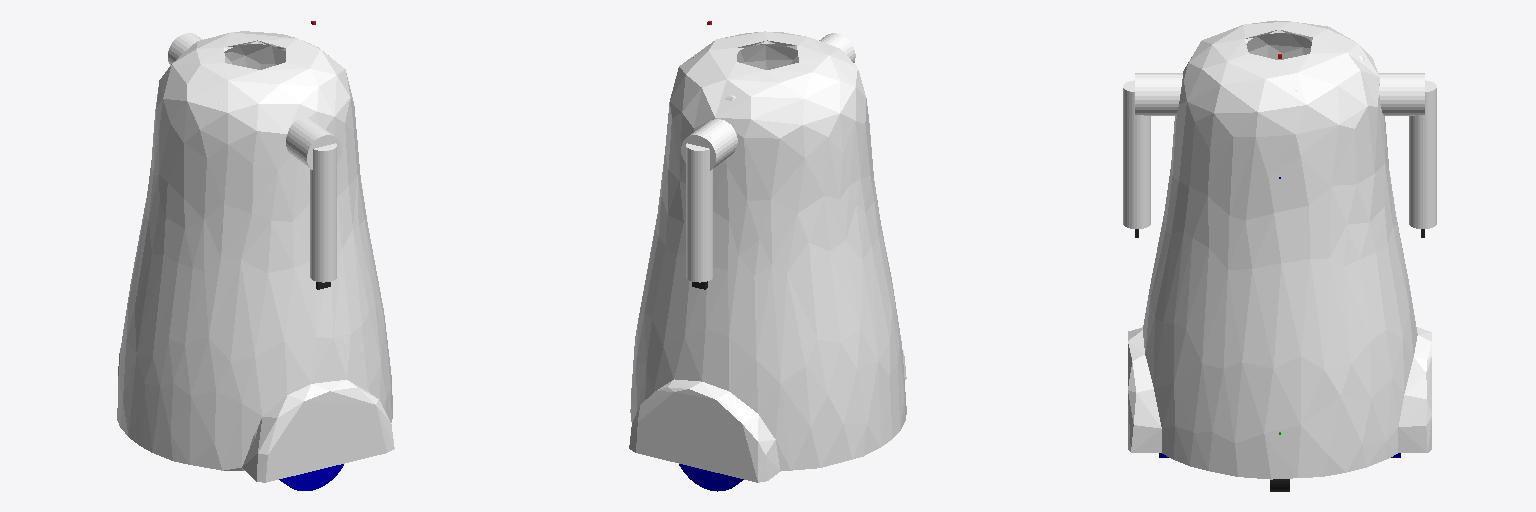
--- Facts derived from the render (not from the file) ---
Views: 3 orthographic renders of the robot side by side, from view 1: azimuth 30°, elevation 25°; view 2: azimuth 150°, elevation 25°; view 3: azimuth 270°, elevation 25°.
Model arca3 with 20 links and 19 joints (10 revolute, 6 continuous, 3 fixed), rooted at base_link, posed all joints at 0.
Visible links, largest first — view 1: base_link, ra_link2, ra_link1, ra_link3, driving_wheel_M1_link, ra_link4, la_link1; view 2: base_link, la_link2, la_link1, la_link3, driving_wheel_M2_link, la_link4; view 3: base_link, ra_link1, la_link1, ra_link2, la_link2, ra_link3, la_link3, la_link4, ra_link4.
Boxes of the visible links, x1,y1,x2,y2 form: base_link: [117, 31, 394, 482]; ra_link2: [310, 143, 336, 218]; ra_link1: [286, 118, 341, 169]; ra_link3: [310, 206, 336, 261]; driving_wheel_M1_link: [279, 464, 343, 490]; ra_link4: [310, 253, 336, 282]; la_link1: [168, 33, 232, 65]; base_link: [629, 31, 906, 482]; la_link2: [686, 143, 712, 218]; la_link1: [681, 119, 737, 170]; la_link3: [686, 208, 712, 261]; driving_wheel_M2_link: [679, 464, 743, 491]; la_link4: [686, 251, 712, 282]; base_link: [1128, 20, 1431, 479]; ra_link1: [1135, 73, 1182, 115]; la_link1: [1379, 73, 1424, 115]; ra_link2: [1123, 80, 1150, 162]; la_link2: [1409, 80, 1436, 162]; ra_link3: [1123, 152, 1150, 207]; la_link3: [1409, 149, 1436, 207]; la_link4: [1409, 196, 1436, 228]; ra_link4: [1123, 197, 1150, 228].
Size in the robot's own frame: 0.4068 by 0.444 by 0.6692 metres.
Meshes: 1 distinct files referenced, 1 mesh visuals loaded (1 binary STL).

The robot description file, URDF, robot "arca3":
<?xml version="1.0" ?>
<!-- =================================================================================== -->
<!-- |    This document was autogenerated by xacro from arca3_vf2.xacro                | -->
<!-- |    EDITING THIS FILE BY HAND IS NOT RECOMMENDED                                 | -->
<!-- =================================================================================== -->
<robot name="arca3" xmlns:xacro="http://www.ros.org/wiki/xacro">
  <!-- dwd: driving wheel diameter, [m]  -->
  <!-- ============================================ -->
  <!--                 Transmission                 -->
  <!-- ============================================ -->
  <!-- <xacro:driving_wheel_transmission number="1"/>
    <xacro:driving_wheel_transmission number="2"/> -->
  <!-- ============================================ -->
  <!-- PLugin - Gazebo drive controller (diff robot)-->
  <!-- ============================================ -->
  <gazebo>
    <plugin filename="libgazebo_ros_diff_drive.so" name="differential_drive_controller">
      <alwaysOn>true</alwaysOn>
      <updateRate>50</updateRate>
      <leftJoint>joint_base_link_driving_wheel_M2</leftJoint>
      <rightJoint>joint_base_link_driving_wheel_M1</rightJoint>
      <wheelSeparation>0.284</wheelSeparation>
      <wheelDiameter>0.125</wheelDiameter>
      <wheelAcceleration>0.2</wheelAcceleration>
      <wheelTorque>30</wheelTorque>
      <commandTopic>cmd_vel</commandTopic>
      <odometryTopic>odom</odometryTopic>
      <odometryFrame>odom</odometryFrame>
      <robotBaseFrame>base_footprint</robotBaseFrame>
      <publishWheelTF>true</publishWheelTF>
      <publishOdom>true</publishOdom>
      <robotBaseFrame>base_link</robotBaseFrame>
      <publishWheelJointState>true</publishWheelJointState>
      <legacyMode>false</legacyMode>
      <rosDebugLevel>false</rosDebugLevel>
      <publishOdomTF>true</publishOdomTF>
      <odometrySource>1</odometrySource>
      <publishTf>1</publishTf>
    </plugin>
  </gazebo>
  <!-- ros_control plugin -->
  <gazebo>
    <plugin filename="libgazebo_ros_control.so" name="gazebo_ros_control">
      <robotNamespace>/arca3</robotNamespace>
      <robotSimType>gazebo_ros_control/DefaultRobotHWSim</robotSimType>
      <legacyModeNS>true</legacyModeNS>
    </plugin>
  </gazebo>
  <!-- =========================================== -->
  <!--              ROBOT DESCRIPTION              -->
  <!-- =========================================== -->
  <!-- Chassis -->
  <gazebo reference="base_link">
    <kp>10000.0</kp>
    <kd>10000.0</kd>
    <mu1>10.0</mu1>
    <mu2>10.0</mu2>
    <material>Gazebo/White</material>
  </gazebo>
  <!--  Left arm-->
  <gazebo reference="la_link1">
    <kp>10.0</kp>
    <kd>10.0</kd>
    <mu1>100.0</mu1>
    <mu2>100.0</mu2>
    <material>Gazebo/White</material>
  </gazebo>
  <gazebo reference="la_link2">
    <kp>10000.0</kp>
    <kd>10000.0</kd>
    <mu1>100.0</mu1>
    <mu2>100.0</mu2>
    <material>Gazebo/White</material>
  </gazebo>
  <gazebo reference="la_link3">
    <kp>10000.0</kp>
    <kd>10000.0</kd>
    <mu1>10.0</mu1>
    <mu2>10.0</mu2>
    <material>Gazebo/White</material>
  </gazebo>
  <gazebo reference="la_link4">
    <kp>10000.0</kp>
    <kd>10000.0</kd>
    <mu1>10.0</mu1>
    <mu2>10.0</mu2>
    <material>Gazebo/White</material>
  </gazebo>
  <gazebo reference="la_link5">
    <kp>10000.0</kp>
    <kd>10000.0</kd>
    <mu1>10.0</mu1>
    <mu2>10.0</mu2>
    <material>Gazebo/Grey</material>
  </gazebo>
  <!--  Right arm-->
  <gazebo reference="ra_link1">
    <kp>10.0</kp>
    <kd>10.0</kd>
    <mu1>100.0</mu1>
    <mu2>100.0</mu2>
    <material>Gazebo/White</material>
  </gazebo>
  <gazebo reference="ra_link2">
    <kp>10.0</kp>
    <kd>10.0</kd>
    <mu1>100.0</mu1>
    <mu2>100.0</mu2>
    <material>Gazebo/White</material>
  </gazebo>
  <gazebo reference="ra_link3">
    <kp>10000.0</kp>
    <kd>10000.0</kd>
    <mu1>10.0</mu1>
    <mu2>10.0</mu2>
    <material>Gazebo/White</material>
  </gazebo>
  <gazebo reference="ra_link4">
    <kp>10000.0</kp>
    <kd>10000.0</kd>
    <mu1>10.0</mu1>
    <mu2>10.0</mu2>
    <material>Gazebo/White</material>
  </gazebo>
  <gazebo reference="ra_link5">
    <kp>10000.0</kp>
    <kd>10000.0</kd>
    <mu1>10.0</mu1>
    <mu2>10.0</mu2>
    <material>Gazebo/Grey</material>
  </gazebo>
  <!-- ============================================ -->
  <!--                   SENSORS                    -->
  <!-- ============================================ -->
  <gazebo reference="front_laserscanner_link">
    <!-- Gazebo sensor -->
    <sensor name="front_rplidar_sensor" type="ray">
      <pose>0 0 0 0 0 0</pose>
      <visualize>false</visualize>
      <!-- put True if you want to visualize the range of the laser -->
      <update_rate>40</update_rate>
      <ray>
        <scan>
          <horizontal>
            <samples>720</samples>
            <resolution>1</resolution>
            <min_angle>0</min_angle>
            <max_angle>3.1416</max_angle>
          </horizontal>
        </scan>
        <range>
          <min>0.10</min>
          <max>2.5</max>
          <resolution>0.01</resolution>
        </range>
        <noise>
          <type>gaussian</type>
          <!-- Noise parameters based on published spec for Hokuyo laser
                         achieving "+-30mm" accuracy at range < 10m.  A mean of 0.0m and
                         stddev of 0.01m will put 99.7% of samples within 0.03m of the true
                         reading. -->
          <mean>0.0</mean>
          <stddev>0.01</stddev>
        </noise>
      </ray>
      <!-- Gazebo plugin -->
      <plugin filename="libgazebo_ros_laser.so" name="gazebo_ros_head_hokuyo_controller">
        <topicName>front_scan</topicName>
        <frameName>front_laserscanner_link</frameName>
      </plugin>
    </sensor>
    <material> Gazebo/Black</material>
  </gazebo>
  <gazebo reference="front_dcamera_link">
    <!-- Gazebo sensor-->
    <sensor name="front_depth_camera" type="depth">
      <update_rate>20</update_rate>
      <camera>
        <horizontal_fov>1.047198</horizontal_fov>
        <image>
          <width>640</width>
          <height>480</height>
          <format>R8G8B8</format>
        </image>
        <clip>
          <near>0.05</near>
          <far>3</far>
        </clip>
      </camera>
      <!-- Gazebo plugin-->
      <plugin filename="libgazebo_ros_openni_kinect.so" name="front_depth_link_controller">
        <baseline>0.2</baseline>
        <alwaysOn>true</alwaysOn>
        <updateRate>1.0</updateRate>
        <cameraName>front_dcamera</cameraName>
        <imageTopicName>front_dcamera/color/image_raw</imageTopicName>
        <cameraInfoTopicName>/front_dcamera/color/camera_info</cameraInfoTopicName>
        <depthImageTopicName>/front_dcamera/depth/image_raw</depthImageTopicName>
        <depthImageInfoTopicName>/front_dcamera/depth/camera_info</depthImageInfoTopicName>
        <pointCloudTopicName>/front_dcamera/depth/points</pointCloudTopicName>
        <frameName>front_dcamera_link</frameName>
        <pointCloudCutoff>0.5</pointCloudCutoff>
        <pointCloudCutoffMax>3.0</pointCloudCutoffMax>
        <distortionK1>0.00000001</distortionK1>
        <distortionK2>0.00000001</distortionK2>
        <distortionK3>0.00000001</distortionK3>
        <distortionT1>0.00000001</distortionT1>
        <distortionT2>0.00000001</distortionT2>
        <CxPrime>0</CxPrime>
        <Cx>0</Cx>
        <Cy>0</Cy>
        <focalLength>0</focalLength>
        <hackBaseline>0</hackBaseline>
      </plugin>
    </sensor>
    <material>Gazebo/Green</material>
  </gazebo>
  <gazebo reference="camera_link">
    <!-- Gazebo sensor-->
    <sensor name="head_camera" type="camera">
      <update_rate>30.0</update_rate>
      <camera name="head">
        <horizontal_fov>1.3962634</horizontal_fov>
        <image>
          <width>800</width>
          <height>800</height>
          <format>R8G8B8</format>
        </image>
        <clip>
          <near>0.02</near>
          <far>300</far>
        </clip>
        <noise>
          <type>gaussian</type>
          <!-- Noise is sampled independently per pixel on each frame.
                    That pixel's noise value is added to each of its color
                    channels, which at that point lie in the range [0,1]. -->
          <mean>0.0</mean>
          <stddev>0.007</stddev>
        </noise>
      </camera>
      <!-- Gazebo plugin-->
      <plugin filename="libgazebo_ros_camera.so" name="camera_controller">
        <alwaysOn>true</alwaysOn>
        <updateRate>0.0</updateRate>
        <cameraName>head_camera</cameraName>
        <imageTopicName>head_camera/image_raw</imageTopicName>
        <cameraInfoTopicName>head_camera/camera_info</cameraInfoTopicName>
        <frameName>camera_link</frameName>
        <hackBaseline>0.07</hackBaseline>
        <distortionK1>0.0</distortionK1>
        <distortionK2>0.0</distortionK2>
        <distortionK3>0.0</distortionK3>
        <distortionT1>0.0</distortionT1>
        <distortionT2>0.0</distortionT2>
      </plugin>
    </sensor>
    <material>Gazebo/Red</material>
  </gazebo>
  <!-- Inluir archivos de materiales y colores-->
  <material name="blue">
    <color rgba="0 0 0.8 1"/>
  </material>
  <material name="green">
    <color rgba="0.0 0.8 0.0 1.0"/>
  </material>
  <material name="black">
    <color rgba="0.0 0.0 0.0 1.0"/>
  </material>
  <material name="white">
    <color rgba="1.0 1.0 1.0 1.0"/>
  </material>
  <material name="red">
    <color rgba="0.80078125 0.12890625 0.1328125 1.0"/>
  </material>
  <material name="grey">
    <color rgba="0.2 0.2 0.2 1.0"/>
  </material>
  <!-- END - Include -->
  <!-- cwh: caster wheel heat, [m]  -->
  <!-- cw_izz: caster wheel inertia z axis, [kgm^2]  -->
  <!-- yc_dist: distance from the origin to the wheel along the y axis, [m]  -->
  <!-- dwt: driving wheel tread, [m]  -->
  <!-- dw_izz: driving wheel inertia z axis, [kgm^2]  -->
  <!-- xd_dist: distance from the origin to the wheel along the x axis, [m]  -->
  <!-- ch: chassis height, [m]  -->
  <!-- c_izz: chassis inertia z axis, [kgm^2]  -->
  <!-- zch_dist: distance from the ground to the bottom of the chasis, [m]  -->
  <!-- cwlh: caster wheel link height, [m]  -->
  <!-- camera_len: length of the camera (it's a cube), [m] -->
  <!-- "${(la_l1_mass*la_l1_rad*la_l1_rad)/2.0}" /> -->
  <!-- "${(la_l2_mass*la_l2_rad*la_l2_rad)/2.0}" /> -->
  <!-- "${(la_l3_mass*la_l3_rad*la_l3_rad)/2.0}" /> -->
  <!-- "${(la_l4_mass*la_l4_rad*la_l4_rad)/2.0}" /> -->
  <!-- "${(la_l5_mass/12.0)*(la_l5_sx*la_l5_sx+la_l5_sy*la_l5_sy)}" /> -->
  <!-- driving wheel transmission -->
  <!-- <xacro:macro name="driving_wheel_transmission" params="number">
        <transmission name="tran${number}">
            <type>transmission_interface/SimpleTransmission</type>
            <joint name="joint_base_link_driving_wheel_M${number}">
                <hardwareInterface>hardware_interface/VelocityJointInterface</hardwareInterface>
            </joint>
            <actuator name="motor${number}">
                <hardwareInterface>hardware_interface/VelocityJointInterface</hardwareInterface>
                <mechanicalReduction>1</mechanicalReduction>
            </actuator>
        </transmission>
    </xacro:macro> -->
  <!-- =========================================== -->
  <!--              ROBOT DESCRIPTION              -->
  <!-- =========================================== -->
  <!-- Chassis -->
  <link name="base_link">
    <visual>
      <origin rpy="0 0 0" xyz="0 0 0.105"/>
      <geometry>
        <mesh filename="package://arca3_description/urdf/meshes/Estructura_arca.stl" scale="0.01 0.01 0.01"/>
      </geometry>
      <material name="white"/>
    </visual>
    <collision>
      <origin rpy="0 0 0" xyz="0 0 0.105"/>
      <geometry>
        <mesh filename="package://arca3_description/urdf/meshes/Estructura_arca.stl" scale="0.01 0.01 0.01"/>
      </geometry>
    </collision>
    <inertial>
      <origin rpy="0 0 0" xyz="0 0 0.105"/>
      <mass value="10.0"/>
      <inertia ixx="0.881333333333" ixy="0.0" ixz="0.0" iyy="0.908333333333" iyz="0.0" izz="0.123"/>
    </inertial>
  </link>
  <link name="caster_wheel_M1_link">
    <visual>
      <origin rpy="0 0 0" xyz="0 0 0"/>
      <geometry>
        <box size="0.020 0.02 0.035"/>
      </geometry>
      <material name="white"/>
    </visual>
    <collision>
      <origin rpy="0 0 0" xyz="0 0 0"/>
      <geometry>
        <box size="0.020 0.020 0.035"/>
      </geometry>
    </collision>
    <inertial>
      <origin rpy="0 0 0" xyz="0 0 0"/>
      <mass value="0.05"/>
      <inertia ixx="0" ixy="0.0" ixz="0.0" iyy="0" iyz="0.0" izz="0"/>
    </inertial>
  </link>
  <gazebo reference="caster_wheel_M1_link">
    <kp>10000.0</kp>
    <kd>10000.0</kd>
    <mu1>10.0</mu1>
    <mu2>10.0</mu2>
    <material>Gazebo/Grey</material>
  </gazebo>
  <link name="wheel_M1_link">
    <visual>
      <origin rpy="0 0 0" xyz="0 0 0"/>
      <geometry>
        <cylinder length="0.027" radius="0.025"/>
      </geometry>
      <material name="grey"/>
    </visual>
    <collision>
      <origin rpy="0 0 0" xyz="0 0 0"/>
      <geometry>
        <cylinder length="0.027" radius="0.025"/>
      </geometry>
    </collision>
    <inertial>
      <origin rpy="0 0 0" xyz="0 0 0"/>
      <mass value="0.5"/>
      <inertia ixx="0.0001085" ixy="0.0" ixz="0.0" iyy="0.0001085" iyz="0.0" izz="0.00015625"/>
    </inertial>
  </link>
  <gazebo reference="wheel_M1_link">
    <kp>10000.0</kp>
    <kd>10000.0</kd>
    <mu1>10.0</mu1>
    <mu2>10.0</mu2>
    <material>Gazebo/Grey</material>
  </gazebo>
  <joint name="caster_wheel_M1_wheel_M1_joint" type="continuous">
    <parent link="caster_wheel_M1_link"/>
    <child link="wheel_M1_link"/>
    <origin rpy="1.570796 0 0" xyz="0.015 0 -0.035"/>
    <limit effort="1.0" velocity="0.005"/>
    <axis xyz="0 0 1"/>
  </joint>
  <link name="caster_wheel_M2_link">
    <visual>
      <origin rpy="0 0 0" xyz="0 0 0"/>
      <geometry>
        <box size="0.020 0.02 0.035"/>
      </geometry>
      <material name="white"/>
    </visual>
    <collision>
      <origin rpy="0 0 0" xyz="0 0 0"/>
      <geometry>
        <box size="0.020 0.020 0.035"/>
      </geometry>
    </collision>
    <inertial>
      <origin rpy="0 0 0" xyz="0 0 0"/>
      <mass value="0.05"/>
      <inertia ixx="0" ixy="0.0" ixz="0.0" iyy="0" iyz="0.0" izz="0"/>
    </inertial>
  </link>
  <gazebo reference="caster_wheel_M2_link">
    <kp>10000.0</kp>
    <kd>10000.0</kd>
    <mu1>10.0</mu1>
    <mu2>10.0</mu2>
    <material>Gazebo/Grey</material>
  </gazebo>
  <link name="wheel_M2_link">
    <visual>
      <origin rpy="0 0 0" xyz="0 0 0"/>
      <geometry>
        <cylinder length="0.027" radius="0.025"/>
      </geometry>
      <material name="grey"/>
    </visual>
    <collision>
      <origin rpy="0 0 0" xyz="0 0 0"/>
      <geometry>
        <cylinder length="0.027" radius="0.025"/>
      </geometry>
    </collision>
    <inertial>
      <origin rpy="0 0 0" xyz="0 0 0"/>
      <mass value="0.5"/>
      <inertia ixx="0.0001085" ixy="0.0" ixz="0.0" iyy="0.0001085" iyz="0.0" izz="0.00015625"/>
    </inertial>
  </link>
  <gazebo reference="wheel_M2_link">
    <kp>10000.0</kp>
    <kd>10000.0</kd>
    <mu1>10.0</mu1>
    <mu2>10.0</mu2>
    <material>Gazebo/Grey</material>
  </gazebo>
  <joint name="caster_wheel_M2_wheel_M2_joint" type="continuous">
    <parent link="caster_wheel_M2_link"/>
    <child link="wheel_M2_link"/>
    <origin rpy="1.570796 0 0" xyz="0.015 0 -0.035"/>
    <limit effort="1.0" velocity="0.005"/>
    <axis xyz="0 0 1"/>
  </joint>
  <!-- Joint among chassis and caster wheels -->
  <joint name="base_link_caster_wheel_M1_joint" type="continuous">
    <parent link="base_link"/>
    <child link="caster_wheel_M1_link"/>
    <origin rpy="0 0 0" xyz="0.11 0 0.0625"/>
    <limit effort="1.0" velocity="1"/>
    <axis xyz="0 0 1"/>
  </joint>
  <joint name="base_link_caster_wheel_M2_joint" type="continuous">
    <parent link="base_link"/>
    <child link="caster_wheel_M2_link"/>
    <origin rpy="0 0 0" xyz="-0.11 0 0.0625"/>
    <limit effort="1.0" velocity="1"/>
    <axis xyz="0 0 1"/>
  </joint>
  <link name="driving_wheel_M1_link">
    <visual>
      <origin rpy="0 0 0" xyz="0 0 0"/>
      <geometry>
        <cylinder length="0.044" radius="0.0625"/>
      </geometry>
      <material name="blue"/>
    </visual>
    <collision>
      <origin rpy="0 0 0" xyz="0 0 0"/>
      <geometry>
        <cylinder length="0.044" radius="0.0625"/>
      </geometry>
    </collision>
    <inertial>
      <origin rpy="0 0 0" xyz="0 0 0"/>
      <mass value="0.6"/>
      <inertia ixx="0.0006827375" ixy="0.0" ixz="0.0" iyy="0.0006827375" iyz="0.0" izz="0.001171875"/>
    </inertial>
  </link>
  <gazebo reference="driving_wheel_M1_link">
    <kp>10000.0</kp>
    <kd>10000.0</kd>
    <mu1>10.0</mu1>
    <mu2>10.0</mu2>
    <material>Gazebo/Blue</material>
  </gazebo>
  <link name="driving_wheel_M2_link">
    <visual>
      <origin rpy="0 0 0" xyz="0 0 0"/>
      <geometry>
        <cylinder length="0.044" radius="0.0625"/>
      </geometry>
      <material name="blue"/>
    </visual>
    <collision>
      <origin rpy="0 0 0" xyz="0 0 0"/>
      <geometry>
        <cylinder length="0.044" radius="0.0625"/>
      </geometry>
    </collision>
    <inertial>
      <origin rpy="0 0 0" xyz="0 0 0"/>
      <mass value="0.6"/>
      <inertia ixx="0.0006827375" ixy="0.0" ixz="0.0" iyy="0.0006827375" iyz="0.0" izz="0.001171875"/>
    </inertial>
  </link>
  <gazebo reference="driving_wheel_M2_link">
    <kp>10000.0</kp>
    <kd>10000.0</kd>
    <mu1>10.0</mu1>
    <mu2>10.0</mu2>
    <material>Gazebo/Blue</material>
  </gazebo>
  <!-- Joint among chassis and driving wheels -->
  <joint name="joint_base_link_driving_wheel_M1" type="continuous">
    <parent link="base_link"/>
    <child link="driving_wheel_M1_link"/>
    <origin rpy="1.57 0 0" xyz="0 -0.149 0.0625"/>
    <limit effort="15.0" velocity="0.1"/>
    <axis xyz="0 0 -1"/>
  </joint>
  <joint name="joint_base_link_driving_wheel_M2" type="continuous">
    <parent link="base_link"/>
    <child link="driving_wheel_M2_link"/>
    <origin rpy="1.57 0 0" xyz="0 0.149 0.0625"/>
    <limit effort="15.0" velocity="0.1"/>
    <axis xyz="0 0 -1"/>
  </joint>
  <!-- ============================================ -->
  <!--                 LEFT ARM                     -->
  <!-- ============================================ -->
  <link name="la_link1">
    <inertial>
      <mass value="1"/>
      <origin rpy="1.5708 0 0" xyz="0 0.02 0"/>
      <inertia ixx="1.3235" ixy="0" ixz="0" iyy="1.3235" iyz="0" izz="0.9655"/>
    </inertial>
    <collision>
      <origin rpy="1.5708 0 0" xyz="0 0.02 0"/>
      <geometry>
        <cylinder length="0.09" radius="0.03"/>
      </geometry>
    </collision>
    <visual>
      <origin rpy="1.5708 0 0" xyz="0 0.02 0"/>
      <geometry>
        <cylinder length="0.09" radius="0.03"/>
      </geometry>
      <material name="white"/>
    </visual>
  </link>
  <joint name="joint_base_to_lalink1" type="revolute">
    <axis xyz="0 1 0"/>
    <limit effort="10000" lower="-3.229" upper="0.349" velocity="0.6"/>
    <origin rpy="0 0 0" xyz="0 0.14 0.56"/>
    <parent link="base_link"/>
    <child link="la_link1"/>
  </joint>
  <transmission name="trans_joint_base_to_lalink1">
    <type>transmission_interface/SimpleTransmission</type>
    <joint name="joint_base_to_lalink1">
      <hardwareInterface>hardware_interface/EffortJointInterface</hardwareInterface>
    </joint>
    <actuator name="motor_joint_base_to_lalink1">
      <hardwareInterface>hardware_interface/EffortJointInterface</hardwareInterface>
      <mechanicalReduction>1</mechanicalReduction>
    </actuator>
  </transmission>
  <link name="la_link2">
    <inertial>
      <mass value="1"/>
      <origin rpy="0 0 0" xyz="0 0.0 -0.042"/>
      <inertia ixx="1.3235" ixy="0" ixz="0" iyy="1.3235" iyz="0" izz="0.9655"/>
    </inertial>
    <collision>
      <origin rpy="0 0 0" xyz="0 0.0 -0.042"/>
      <geometry>
        <cylinder length="0.11" radius="0.02"/>
      </geometry>
    </collision>
    <visual>
      <origin rpy="0 0 0" xyz="0 0.0 -0.042"/>
      <geometry>
        <cylinder length="0.11" radius="0.02"/>
      </geometry>
      <material name="white"/>
    </visual>
  </link>
  <joint name="joint_lalink1_to_lalink2" type="revolute">
    <axis xyz="1 0 0"/>
    <limit effort="10000" lower="-0.175" upper="1.745" velocity="0.6"/>
    <origin rpy="0 0 0" xyz="0 0.062 0"/>
    <parent link="la_link1"/>
    <child link="la_link2"/>
  </joint>
  <transmission name="trans_joint_lalink1_to_lalink2">
    <type>transmission_interface/SimpleTransmission</type>
    <joint name="joint_lalink1_to_lalink2">
      <hardwareInterface>hardware_interface/EffortJointInterface</hardwareInterface>
    </joint>
    <actuator name="motor_joint_lalink1_to_lalink2">
      <hardwareInterface>hardware_interface/EffortJointInterface</hardwareInterface>
      <mechanicalReduction>1</mechanicalReduction>
    </actuator>
  </transmission>
  <link name="la_link3">
    <inertial>
      <mass value="1"/>
      <origin rpy="0 0 0" xyz="0 0.0 -0.028"/>
      <inertia ixx="1.3235" ixy="0" ixz="0" iyy="1.3235" iyz="0" izz="0.9655"/>
    </inertial>
    <collision>
      <origin rpy="0 0 0" xyz="0 0.0 -0.028"/>
      <geometry>
        <cylinder length="0.085" radius="0.02"/>
      </geometry>
    </collision>
    <visual>
      <origin rpy="0 0 0" xyz="0 0.0 -0.028"/>
      <geometry>
        <cylinder length="0.085" radius="0.02"/>
      </geometry>
      <material name="white"/>
    </visual>
  </link>
  <joint name="joint_lalink2_to_lalink3" type="revolute">
    <axis xyz="0 1 0"/>
    <limit effort="10000" lower="-2.094" upper="0.0" velocity="0.6"/>
    <origin rpy="0 0 0" xyz="0 0 -0.097"/>
    <parent link="la_link2"/>
    <child link="la_link3"/>
  </joint>
  <transmission name="trans_joint_lalink2_to_lalink3">
    <type>transmission_interface/SimpleTransmission</type>
    <joint name="joint_lalink2_to_lalink3">
      <hardwareInterface>hardware_interface/EffortJointInterface</hardwareInterface>
    </joint>
    <actuator name="motor_joint_lalink2_to_lalink3">
      <hardwareInterface>hardware_interface/EffortJointInterface</hardwareInterface>
      <mechanicalReduction>1</mechanicalReduction>
    </actuator>
  </transmission>
  <link name="la_link4">
    <inertial>
      <mass value="1"/>
      <origin rpy="0 0 0" xyz="0 0.0 -0.017"/>
      <inertia ixx="1.3235" ixy="0" ixz="0" iyy="1.3235" iyz="0" izz="0.9655"/>
    </inertial>
    <collision>
      <origin rpy="0 0 0" xyz="0 0.0 -0.017"/>
      <geometry>
        <cylinder length="0.045" radius="0.02"/>
      </geometry>
    </collision>
    <visual>
      <origin rpy="0 0 0" xyz="0 0.0 -0.017"/>
      <geometry>
        <cylinder length="0.045" radius="0.02"/>
      </geometry>
      <material name="white"/>
    </visual>
  </link>
  <joint name="joint_lalink3_to_lalink4" type="revolute">
    <axis xyz="0 0 1"/>
    <limit effort="10000" lower="-3.1416" upper="1.5708" velocity="0.6"/>
    <origin rpy="0 0 0" xyz="0 0.0 -0.064"/>
    <parent link="la_link3"/>
    <child link="la_link4"/>
  </joint>
  <transmission name="trans_joint_lalink3_to_lalink4">
    <type>transmission_interface/SimpleTransmission</type>
    <joint name="joint_lalink3_to_lalink4">
      <hardwareInterface>hardware_interface/EffortJointInterface</hardwareInterface>
    </joint>
    <actuator name="motor_joint_lalink3_to_lalink4">
      <hardwareInterface>hardware_interface/EffortJointInterface</hardwareInterface>
      <mechanicalReduction>1</mechanicalReduction>
    </actuator>
  </transmission>
  <link name="la_link5">
    <inertial>
      <mass value="1"/>
      <origin rpy="0 0 1.5708" xyz="0 0.0 -0.002"/>
      <inertia ixx="1.3235" ixy="0" ixz="0" iyy="0.000136333333333" iyz="0" izz="0.9655"/>
    </inertial>
    <collision>
      <origin rpy="0 0 1.5708" xyz="0 0.0 -0.002"/>
      <geometry>
        <box size="0.006 0.023 0.04"/>
      </geometry>
    </collision>
    <visual>
      <origin rpy="0 0 1.5708" xyz="0 0.0 -0.002"/>
      <geometry>
        <box size="0.006 0.023 0.04"/>
      </geometry>
      <material name="grey"/>
    </visual>
  </link>
  <joint name="joint_lalink4_to_lalink5" type="revolute">
    <axis xyz="1 0 0"/>
    <limit effort="10000" lower="-0.7854" upper="0.0" velocity="0.6"/>
    <origin rpy="0 0 0" xyz="0 0.0 -0.035"/>
    <parent link="la_link4"/>
    <child link="la_link5"/>
  </joint>
  <transmission name="trans_joint_lalink4_to_lalink5">
    <type>transmission_interface/SimpleTransmission</type>
    <joint name="joint_lalink4_to_lalink5">
      <hardwareInterface>hardware_interface/EffortJointInterface</hardwareInterface>
    </joint>
    <actuator name="motor_joint_lalink4_to_lalink5">
      <hardwareInterface>hardware_interface/EffortJointInterface</hardwareInterface>
      <mechanicalReduction>1</mechanicalReduction>
    </actuator>
  </transmission>
  <link name="ra_link1">
    <inertial>
      <mass value="1"/>
      <origin rpy="1.5708 0 0" xyz="0 -0.02 0"/>
      <inertia ixx="1.3235" ixy="0" ixz="0" iyy="1.3235" iyz="0" izz="0.9655"/>
    </inertial>
    <collision>
      <origin rpy="1.5708 0 0" xyz="0 -0.02 0"/>
      <geometry>
        <cylinder length="0.09" radius="0.03"/>
      </geometry>
    </collision>
    <visual>
      <origin rpy="1.5708 0 0" xyz="0 -0.02 0"/>
      <geometry>
        <cylinder length="0.09" radius="0.03"/>
      </geometry>
      <material name="white"/>
    </visual>
  </link>
  <joint name="joint_base_to_ralink1" type="revolute">
    <axis xyz="0 1 0"/>
    <limit effort="10000" lower="-3.229" upper="0.349" velocity="0.6"/>
    <origin rpy="0 0 0" xyz="0 -0.14 0.56"/>
    <parent link="base_link"/>
    <child link="ra_link1"/>
  </joint>
  <transmission name="trans_joint_base_to_ralink1">
    <type>transmission_interface/SimpleTransmission</type>
    <joint name="joint_base_to_ralink1">
      <hardwareInterface>hardware_interface/EffortJointInterface</hardwareInterface>
    </joint>
    <actuator name="motor_joint_base_to_ralink1">
      <hardwareInterface>hardware_interface/EffortJointInterface</hardwareInterface>
      <mechanicalReduction>1</mechanicalReduction>
    </actuator>
  </transmission>
  <link name="ra_link2">
    <inertial>
      <mass value="1"/>
      <origin rpy="0 0 0" xyz="0 0.0 -0.042"/>
      <inertia ixx="1.3235" ixy="0" ixz="0" iyy="1.3235" iyz="0" izz="0.9655"/>
    </inertial>
    <collision>
      <origin rpy="0 0 0" xyz="0 0.0 -0.042"/>
      <geometry>
        <cylinder length="0.11" radius="0.02"/>
      </geometry>
    </collision>
    <visual>
      <origin rpy="0 0 0" xyz="0 0.0 -0.042"/>
      <geometry>
        <cylinder length="0.11" radius="0.02"/>
      </geometry>
      <material name="white"/>
    </visual>
  </link>
  <joint name="joint_ralink1_to_ralink2" type="revolute">
    <axis xyz="1 0 0"/>
    <limit effort="10000" lower="-1.745" upper="0.175" velocity="0.6"/>
    <origin rpy="0 0 0" xyz="0 -0.062 0"/>
    <parent link="ra_link1"/>
    <child link="ra_link2"/>
  </joint>
  <transmission name="trans_joint_ralink1_to_ralink2">
    <type>transmission_interface/SimpleTransmission</type>
    <joint name="joint_ralink1_to_ralink2">
      <hardwareInterface>hardware_interface/EffortJointInterface</hardwareInterface>
    </joint>
    <actuator name="motor_joint_ralink1_to_ralink2">
      <hardwareInterface>hardware_interface/EffortJointInterface</hardwareInterface>
      <mechanicalReduction>1</mechanicalReduction>
    </actuator>
  </transmission>
  <link name="ra_link3">
    <inertial>
      <mass value="1"/>
      <origin rpy="0 0 0" xyz="0 0.0 -0.028"/>
      <inertia ixx="1.3235" ixy="0" ixz="0" iyy="1.3235" iyz="0" izz="0.9655"/>
    </inertial>
    <collision>
      <origin rpy="0 0 0" xyz="0 0.0 -0.028"/>
      <geometry>
        <cylinder length="0.085" radius="0.02"/>
      </geometry>
    </collision>
    <visual>
      <origin rpy="0 0 0" xyz="0 0.0 -0.028"/>
      <geometry>
        <cylinder length="0.085" radius="0.02"/>
      </geometry>
      <material name="white"/>
    </visual>
  </link>
  <joint name="joint_ralink2_to_ralink3" type="revolute">
    <axis xyz="0 1 0"/>
    <limit effort="10000" lower="-2.094" upper="0.0" velocity="0.6"/>
    <origin rpy="0 0 0" xyz="0 0 -0.097"/>
    <parent link="ra_link2"/>
    <child link="ra_link3"/>
  </joint>
  <transmission name="trans_joint_ralink2_to_ralink3">
    <type>transmission_interface/SimpleTransmission</type>
    <joint name="joint_ralink2_to_ralink3">
      <hardwareInterface>hardware_interface/EffortJointInterface</hardwareInterface>
    </joint>
    <actuator name="motor_joint_ralink2_to_ralink3">
      <hardwareInterface>hardware_interface/EffortJointInterface</hardwareInterface>
      <mechanicalReduction>1</mechanicalReduction>
    </actuator>
  </transmission>
  <link name="ra_link4">
    <inertial>
      <mass value="1"/>
      <origin rpy="0 0 0" xyz="0 0.0 -0.017"/>
      <inertia ixx="1.3235" ixy="0" ixz="0" iyy="1.3235" iyz="0" izz="0.9655"/>
    </inertial>
    <collision>
      <origin rpy="0 0 0" xyz="0 0.0 -0.017"/>
      <geometry>
        <cylinder length="0.045" radius="0.02"/>
      </geometry>
    </collision>
    <visual>
      <origin rpy="0 0 0" xyz="0 0.0 -0.017"/>
      <geometry>
        <cylinder length="0.045" radius="0.02"/>
      </geometry>
      <material name="white"/>
    </visual>
  </link>
  <joint name="joint_ralink3_to_ralink4" type="revolute">
    <axis xyz="0 0 1"/>
    <limit effort="10000" lower="-1.5708" upper="3.1416" velocity="0.6"/>
    <origin rpy="0 0 0" xyz="0 0.0 -0.064"/>
    <parent link="ra_link3"/>
    <child link="ra_link4"/>
  </joint>
  <transmission name="trans_joint_ralink3_to_ralink4">
    <type>transmission_interface/SimpleTransmission</type>
    <joint name="joint_ralink3_to_ralink4">
      <hardwareInterface>hardware_interface/EffortJointInterface</hardwareInterface>
    </joint>
    <actuator name="motor_joint_ralink3_to_ralink4">
      <hardwareInterface>hardware_interface/EffortJointInterface</hardwareInterface>
      <mechanicalReduction>1</mechanicalReduction>
    </actuator>
  </transmission>
  <link name="ra_link5">
    <inertial>
      <mass value="1"/>
      <origin rpy="0 0 1.5708" xyz="0 0.0 -0.002"/>
      <inertia ixx="1.3235" ixy="0" ixz="0" iyy="0.000136333333333" iyz="0" izz="0.9655"/>
    </inertial>
    <collision>
      <origin rpy="0 0 1.5708" xyz="0 0.0 -0.002"/>
      <geometry>
        <box size="0.006 0.023 0.04"/>
      </geometry>
    </collision>
    <visual>
      <origin rpy="0 0 1.5708" xyz="0 0.0 -0.002"/>
      <geometry>
        <box size="0.006 0.023 0.04"/>
      </geometry>
      <material name="grey"/>
    </visual>
  </link>
  <joint name="joint_ralink4_to_ralink5" type="revolute">
    <axis xyz="1 0 0"/>
    <limit effort="10000" lower="0.0" upper="0.7854" velocity="0.6"/>
    <origin rpy="0 0 0" xyz="0 0.0 -0.035"/>
    <parent link="ra_link4"/>
    <child link="ra_link5"/>
  </joint>
  <transmission name="trans_joint_ralink4_to_ralink5">
    <type>transmission_interface/SimpleTransmission</type>
    <joint name="joint_ralink4_to_ralink5">
      <hardwareInterface>hardware_interface/EffortJointInterface</hardwareInterface>
    </joint>
    <actuator name="motor_joint_ralink4_to_ralink5">
      <hardwareInterface>hardware_interface/EffortJointInterface</hardwareInterface>
      <mechanicalReduction>1</mechanicalReduction>
    </actuator>
  </transmission>
  <!-- ============================================ -->
  <!--                   SENSORS                    -->
  <!-- ============================================ -->
  <!-- Sensor Laser in the base -->
  <link name="front_laserscanner_link">
    <visual>
      <origin rpy="0.0 0 0" xyz="0 0 0"/>
      <geometry>
        <box size="0.003 0.003 0.003"/>
      </geometry>
      <material name="green"/>
    </visual>
    <collision>
      <origin rpy="0.0 0 0" xyz="0 0 0"/>
      <geometry>
        <box size="0.003 0.003 0.003"/>
      </geometry>
    </collision>
    <inertial>
      <mass value="1e-5"/>
      <origin rpy="0 0 0" xyz="0 0 0"/>
      <inertia ixx="1e-6" ixy="0" ixz="0" iyy="1e-6" iyz="0" izz="1e-6"/>
    </inertial>
  </link>
  <joint name="base_front_laserscanner_joint" type="fixed">
    <axis xyz="0 1 0"/>
    <parent link="base_link"/>
    <child link="front_laserscanner_link"/>
    <origin rpy="0 0 -1.5708" xyz="0.2 0 0.125"/>
  </joint>
  <!-- Depth sensor at the middle -->
  <link name="front_dcamera_link">
    <visual>
      <origin rpy="0.0 0 0" xyz="0 0 0"/>
      <geometry>
        <box size="0.002 0.002 0.002"/>
      </geometry>
      <material name="blue"/>
    </visual>
  </link>
  <joint name="base_front_dcamera_joint" type="fixed">
    <parent link="base_link"/>
    <child link="front_dcamera_link"/>
    <origin rpy="0 0 0" xyz="0.15 0 0.5"/>
  </joint>
  <!-- Camera in the head -->
  <link name="camera_link">
    <visual>
      <origin rpy="0 0 0" xyz="0 0 0"/>
      <geometry>
        <box size="0.005 0.005 0.005"/>
      </geometry>
      <material name="red"/>
    </visual>
    <collision>
      <origin rpy="0 0 0" xyz="0 0 0"/>
      <geometry>
        <box size="0.005 0.005 0.005"/>
      </geometry>
    </collision>
    <inertial>
      <mass value="1e-5"/>
      <origin rpy="0 0 0" xyz="0 0 0"/>
      <inertia ixx="1e-6" ixy="0" ixz="0" iyy="1e-6" iyz="0" izz="1e-6"/>
    </inertial>
  </link>
  <joint name="camera_joint" type="fixed">
    <axis xyz="0 1 0"/>
    <origin rpy="0 0 0" xyz="0.1 0 0.666666666667"/>
    <parent link="base_link"/>
    <child link="camera_link"/>
  </joint>
</robot>
